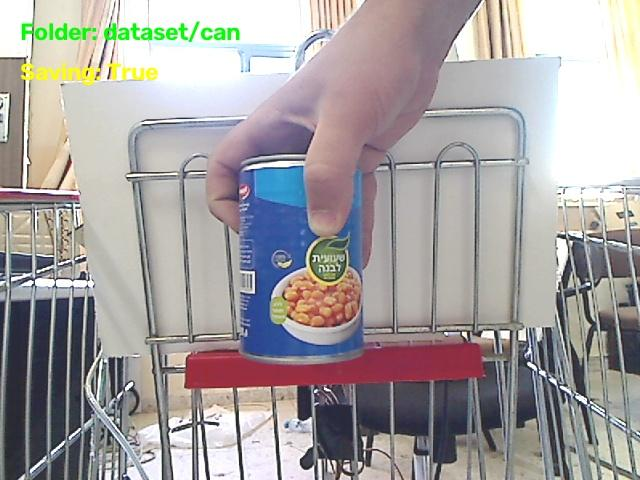can: (239, 155, 363, 363)
